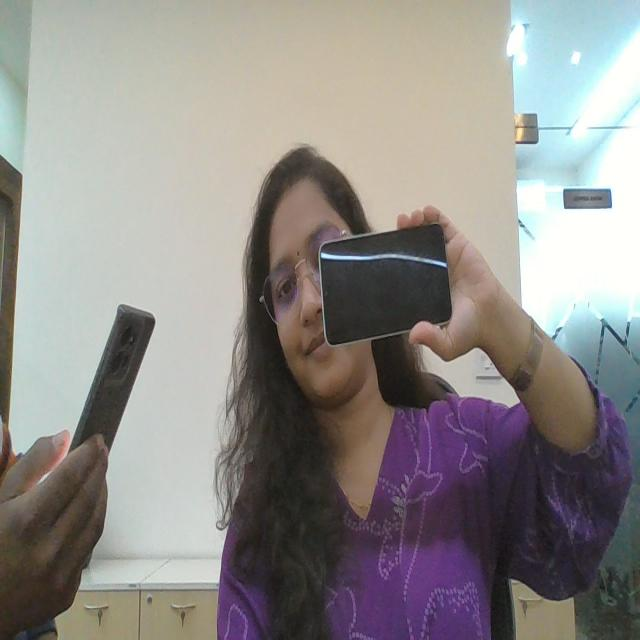phone: (318, 219, 456, 349), (69, 300, 158, 451)
